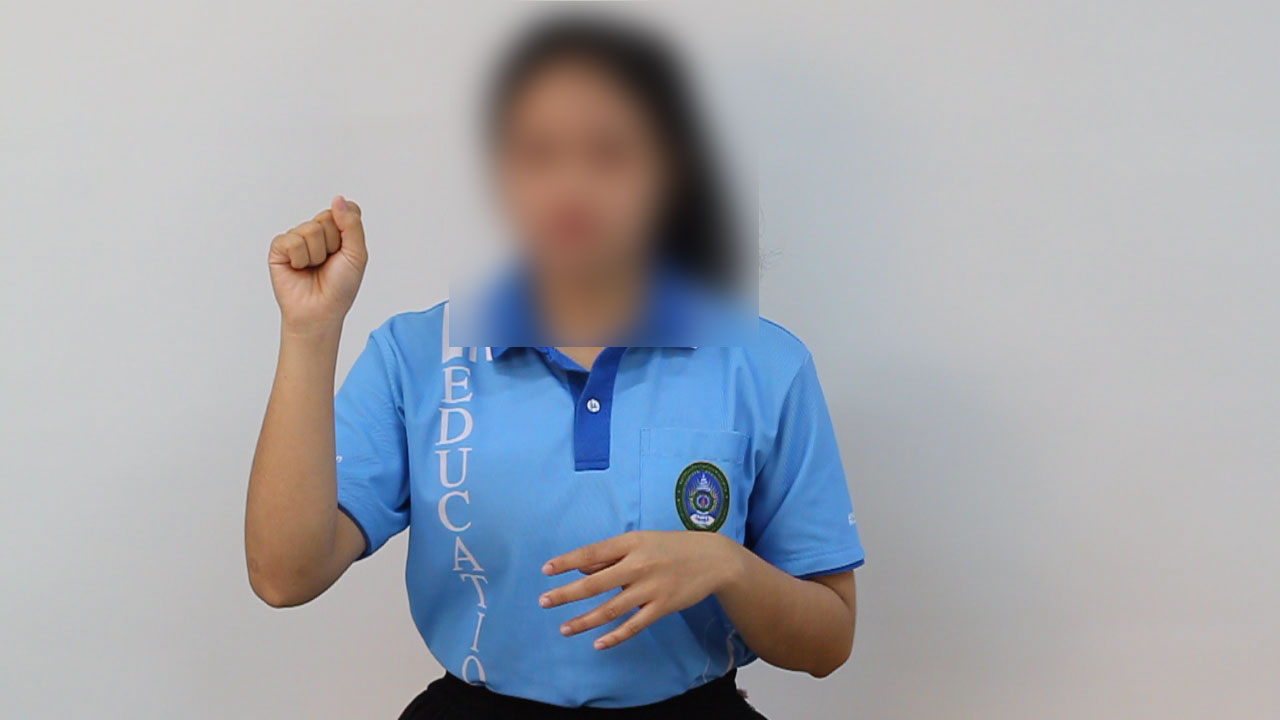sor: (251, 182, 381, 349)
